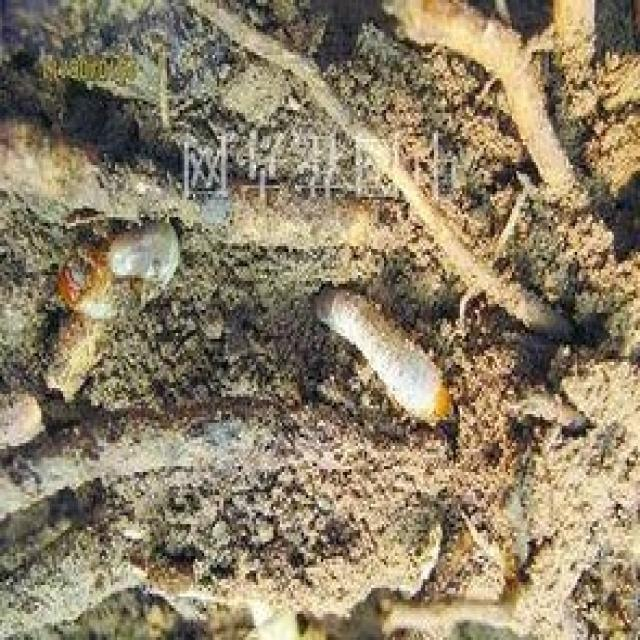grub: (309, 288, 457, 427), (60, 230, 181, 328)
